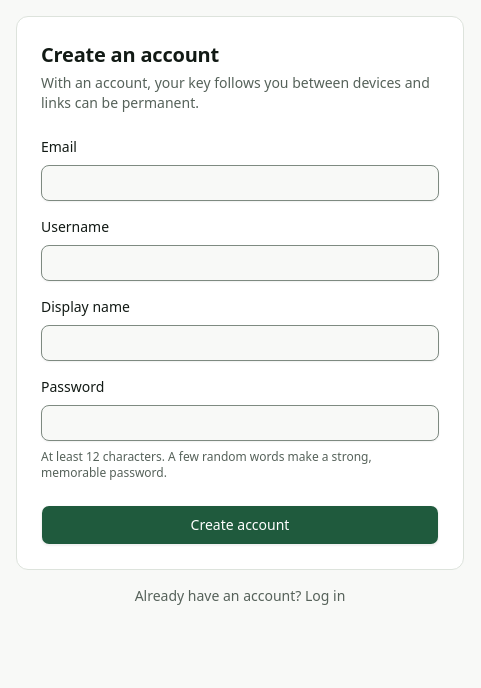
Test case: RegisterPage › shows a rate-limited message on a 429
Type "h@example.com" into the field labelled "Email" at (240, 183), box [41,165,439,201]
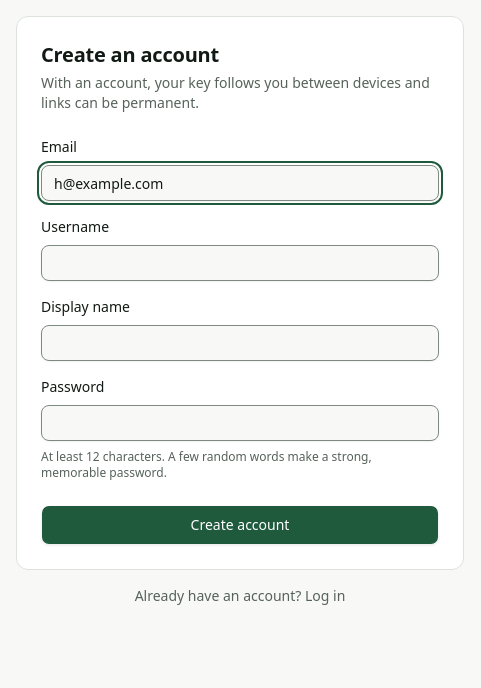
Type "hank" into the field labelled "Username" at (240, 263), box [41,245,439,281]
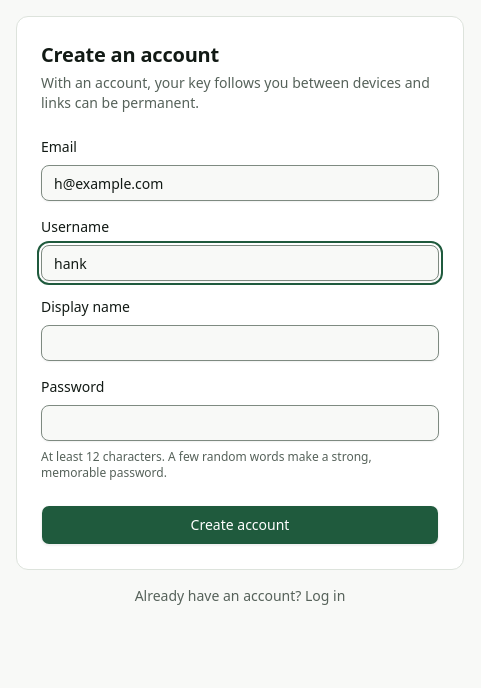
Type "Hank" into the field labelled "Display name" at (240, 343), box [41,325,439,361]
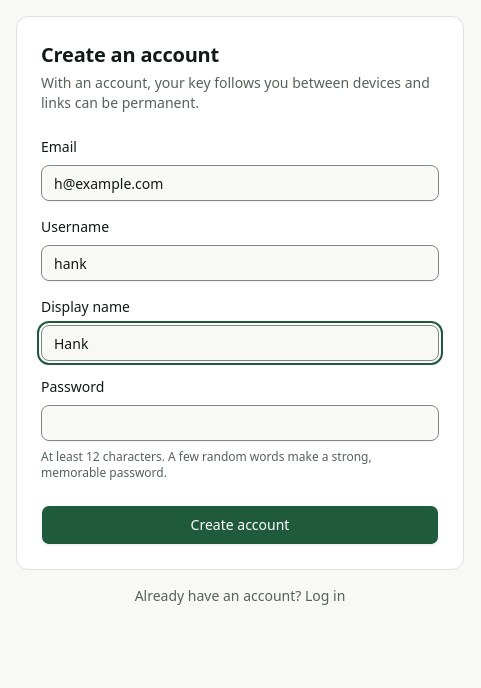
Type "correct horse battery staple" into the password field labelled "Password" at (240, 423), box [41,405,439,441]
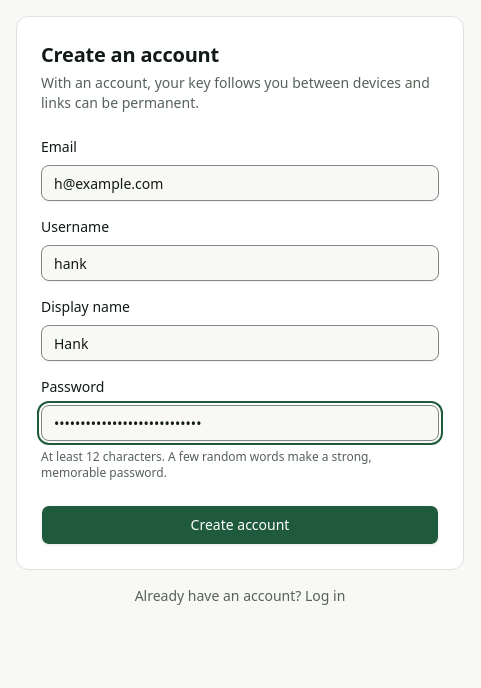
Click the button "Create account" at (240, 525), box [41,505,439,545]
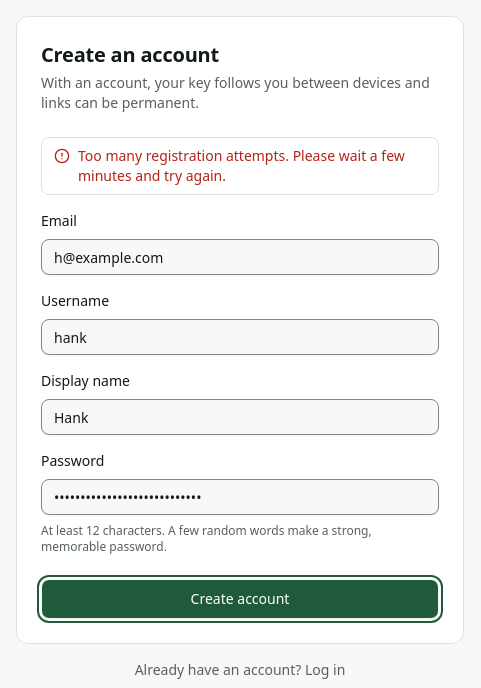
Expected: the message shows "Too many registration attempts", [78,146,405,185]
